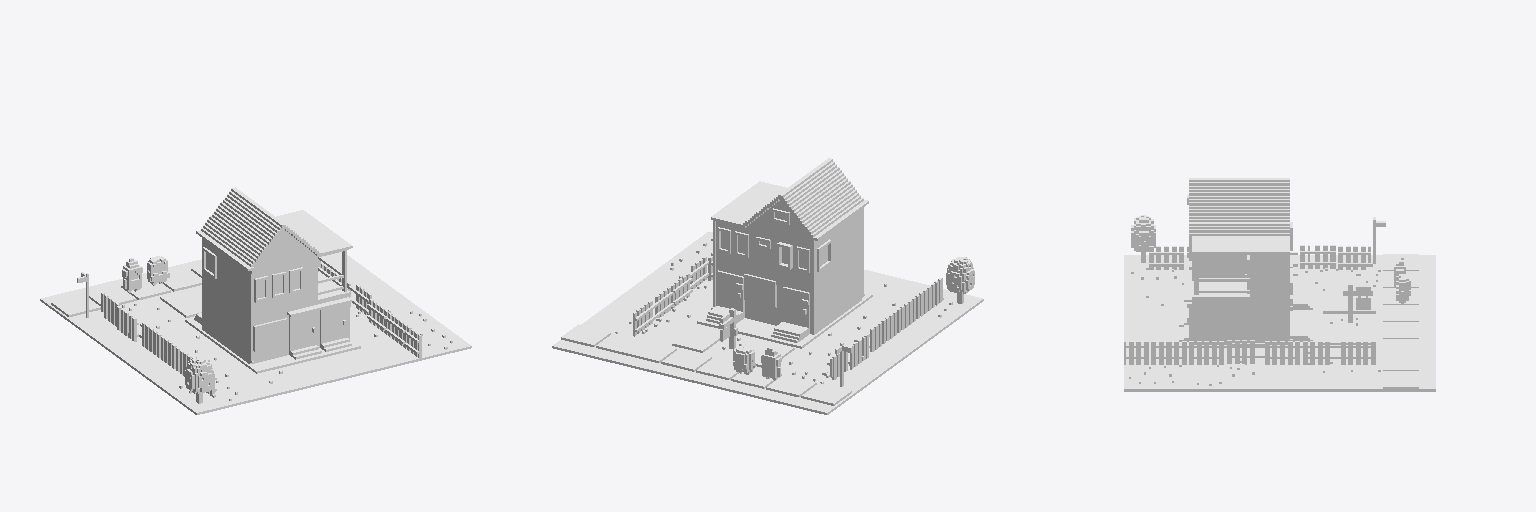
The model's file is house-4.obj.
The picture shows the model from 3 angles: view 1: azimuth 30°, elevation 25°; view 2: azimuth 150°, elevation 25°; view 3: azimuth 270°, elevation 25°; orthographic projection.
Visible parts, largest first — view 1: object 1; view 2: object 1; view 3: object 1.
Part boxes in pixels (x1,y1,x2,y2): object 1: (40, 187, 471, 414); object 1: (552, 158, 983, 414); object 1: (1124, 178, 1435, 391).
Size of the model in its own units: 12.6 by 6 by 12.4.